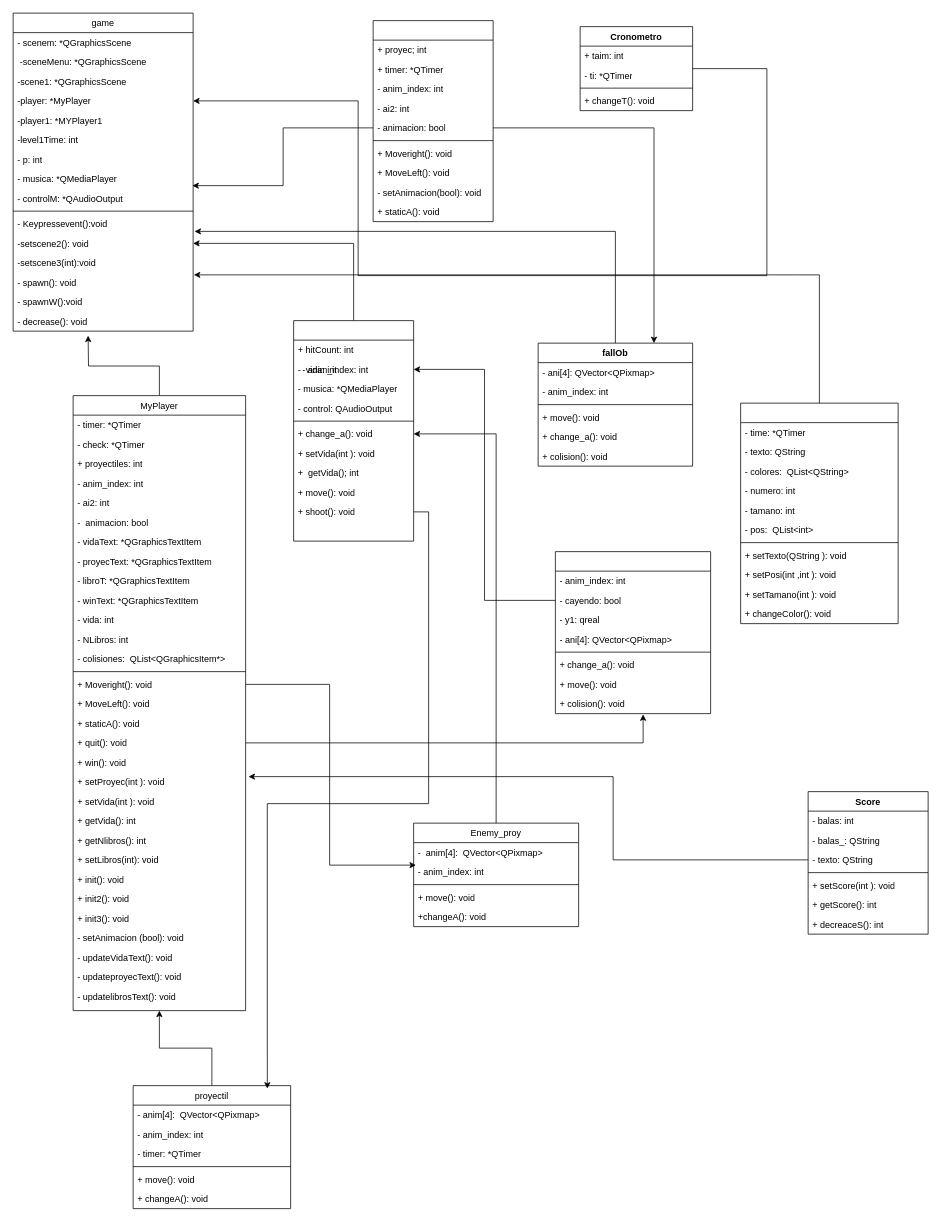
The diagram is 941 pixels wide and 1224 high, and some of its shapes have lost their labels. Here are the shapes that lost their labels. From the top down, the box of each, then its label:
(372, 20, 493, 222): MyPlayer1
(293, 320, 414, 541): Enemigo
(740, 402, 898, 624): textoMenu
(555, 551, 711, 714): book
